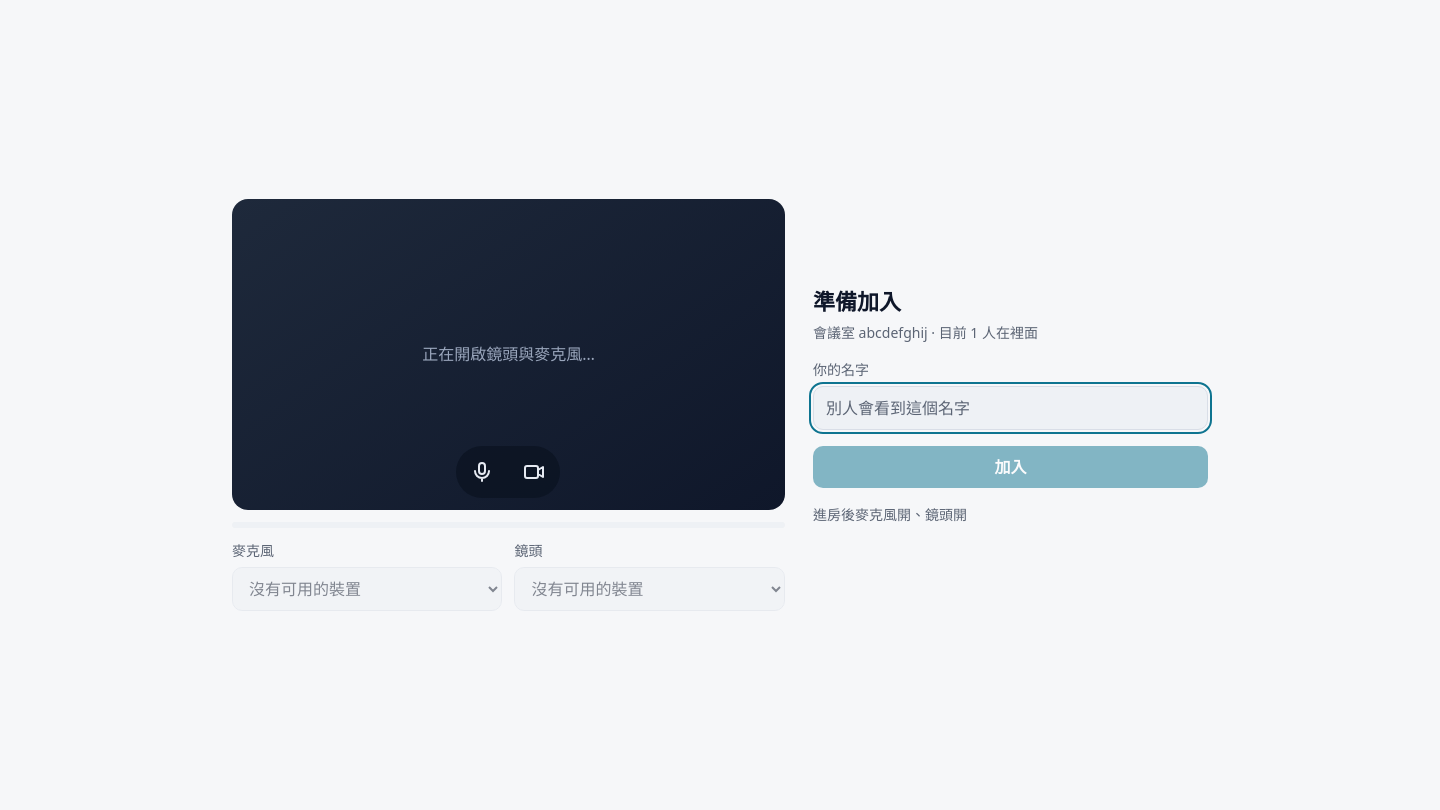
Test case: joining a room › asks for a name, joins with it and shows who is in the room
This screenshot has width=1440, height=810.
Check: the button "加入" is disabled, box [813,446,1208,488]
Type "  小潔  " into the field labelled "你的名字".
click(1010, 408); type("  小潔  ")  # box [813,386,1208,430]
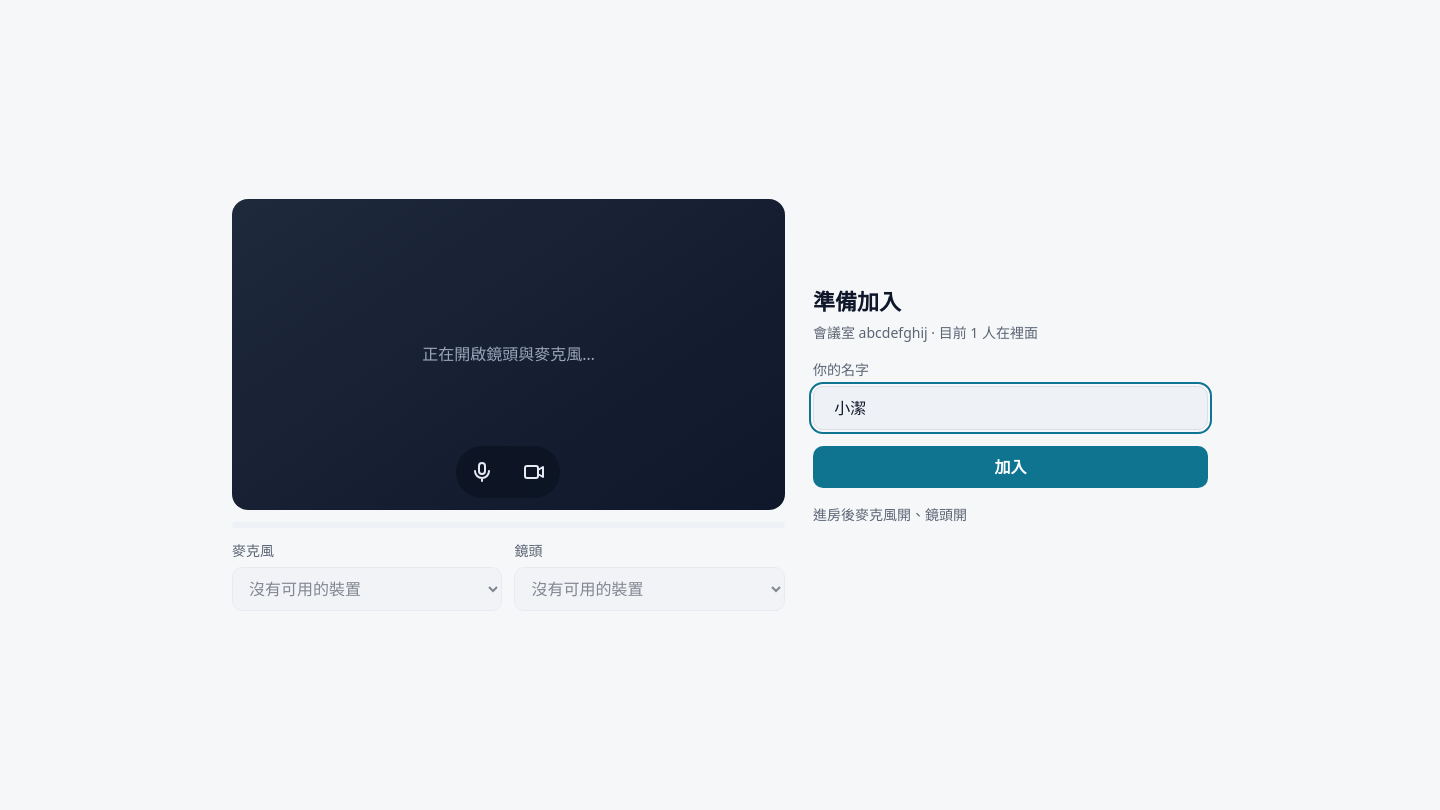
Click the button "加入".
click(1010, 467)  # box [813,446,1208,488]
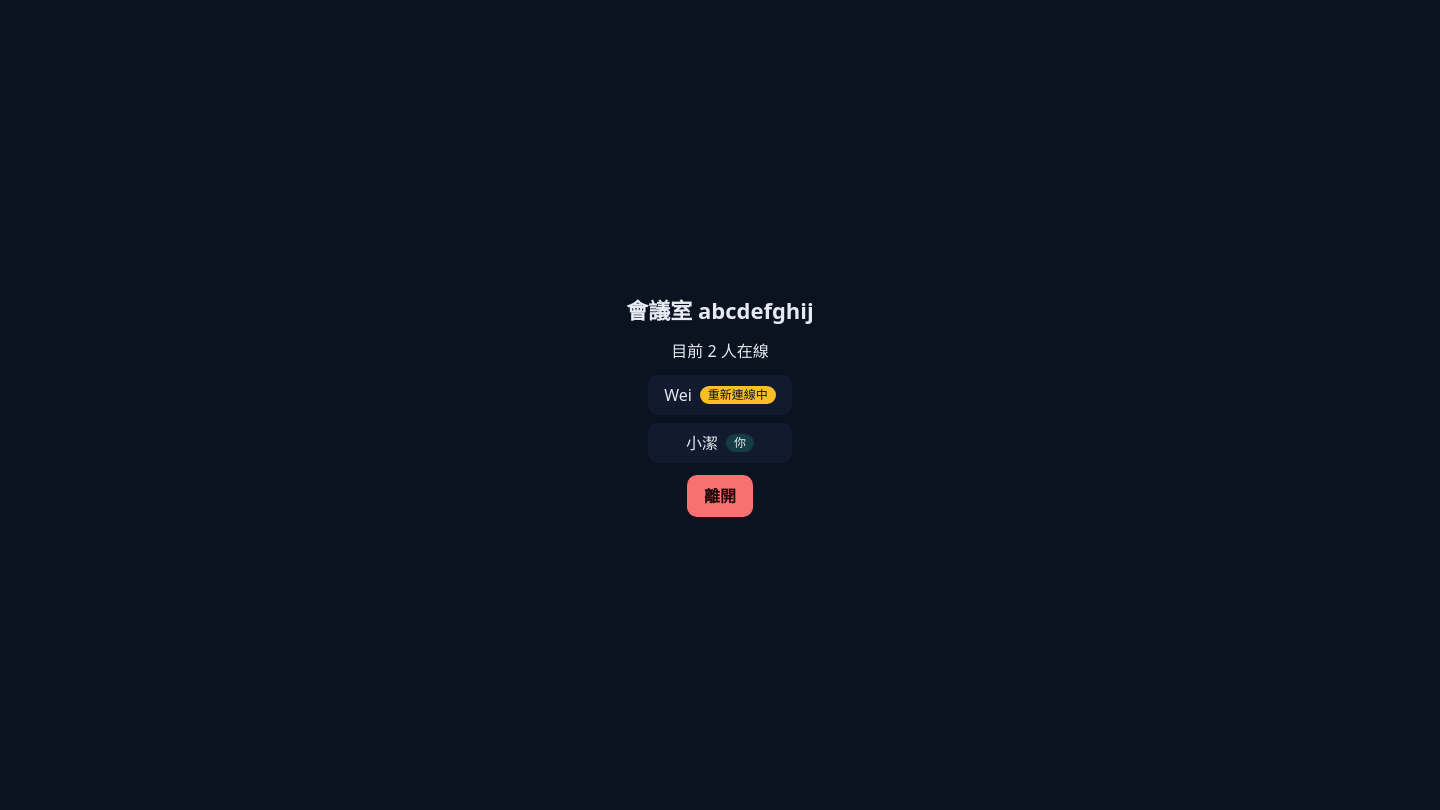
Check: the text "目前 2 人在線" is shown, box [671,338,769,362]
